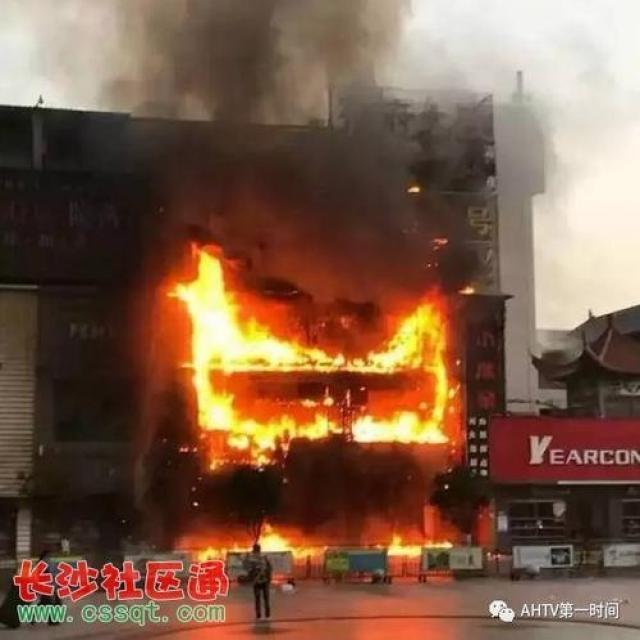Fire: (165, 244, 463, 476), (198, 519, 326, 564), (382, 533, 454, 560)
Smoke: (26, 1, 477, 357)
